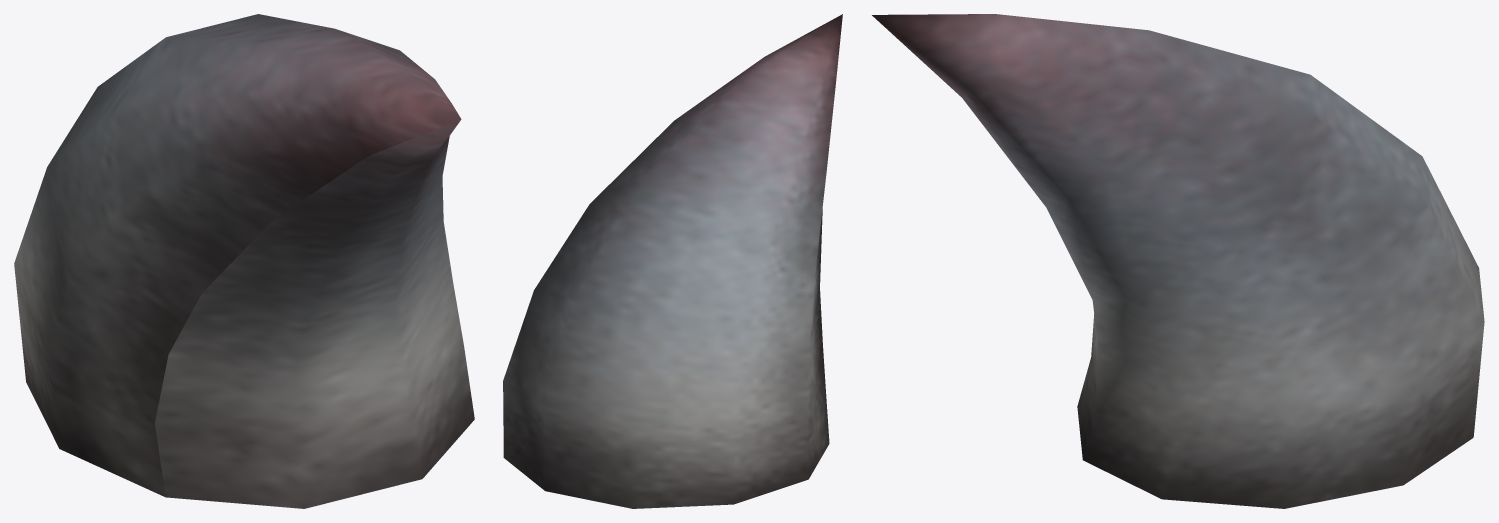
The model's file is footArmorCiladeaRGT.fbx.
The picture shows the model from 3 angles, left to right: view 1: azimuth 30°, elevation 25°; view 2: azimuth 150°, elevation 25°; view 3: azimuth 270°, elevation 25°; orthographic projection. The views are drawn at different scales.
Parts seen in each view (by area): view 1: footArmorCiladeaRGT; view 2: footArmorCiladeaRGT; view 3: footArmorCiladeaRGT.
Boxes of the visible parts, left/top/right/bottom form: footArmorCiladeaRGT: left=14, top=14, right=474, bottom=508; footArmorCiladeaRGT: left=503, top=14, right=842, bottom=508; footArmorCiladeaRGT: left=872, top=14, right=1484, bottom=508.
Bounding box in the file's own units: 0.2019 × 0.2277 × 0.3083.
